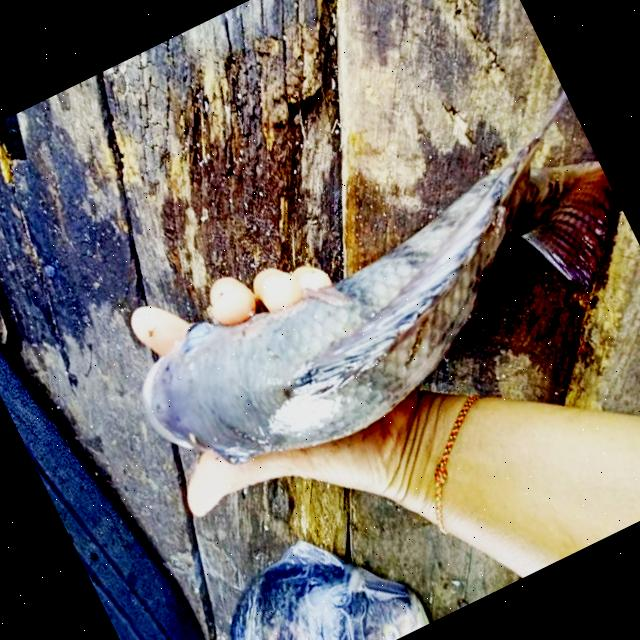Tilapia Lake Virus -TiLV-: (142, 91, 603, 462)
